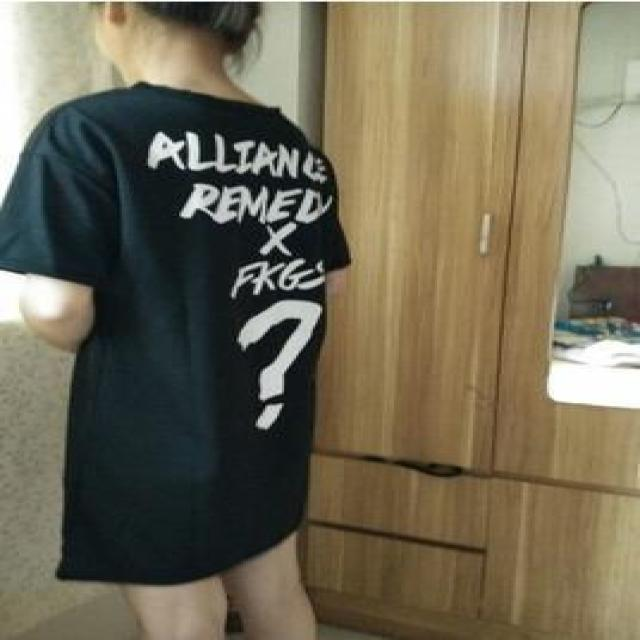short sleeve dress: (2, 84, 351, 580)
